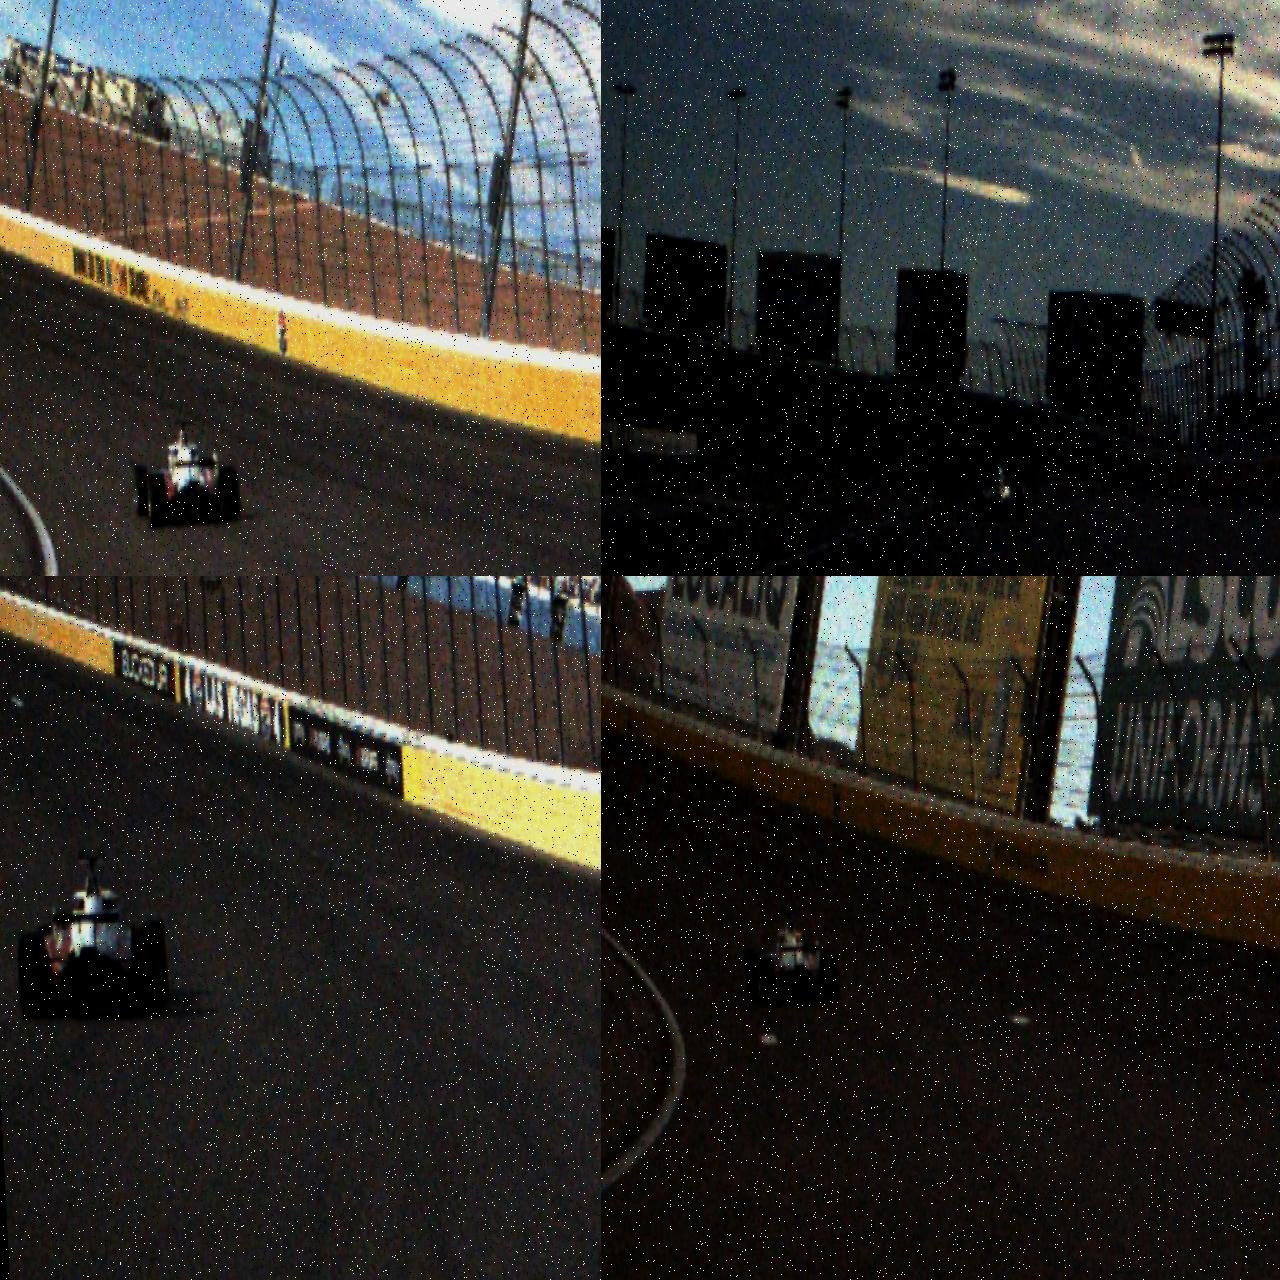AV: (12, 851, 170, 1021), (128, 416, 241, 530), (742, 908, 839, 1005), (972, 457, 1027, 520)
Wheel: (16, 931, 49, 1020), (132, 926, 163, 1015), (218, 467, 241, 522), (147, 472, 168, 527), (756, 956, 776, 1005), (821, 951, 839, 1001), (134, 463, 149, 517), (744, 948, 760, 995), (1014, 486, 1027, 518), (974, 490, 983, 519)
